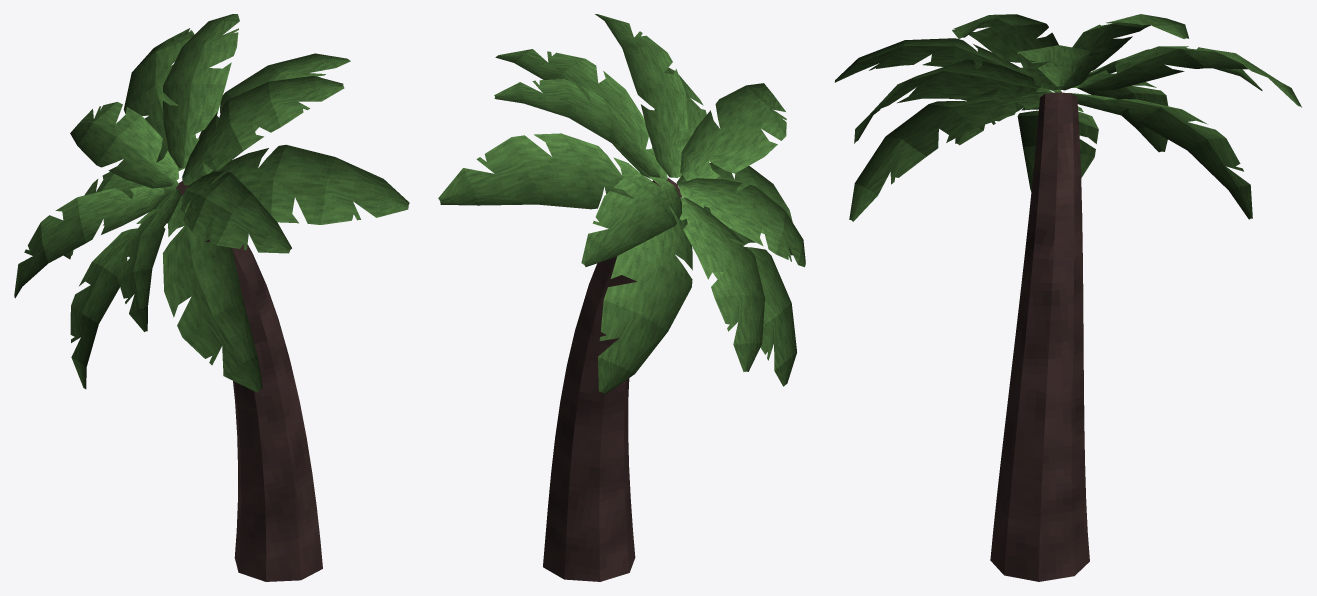
The model's file is palm_tree.gltf.
3 renders of one model, left to right at view 1: azimuth 30°, elevation 25°; view 2: azimuth 150°, elevation 25°; view 3: azimuth 270°, elevation 25°, orthographic. The views are drawn at different scales.
Visible parts, largest first — view 1: tree; view 2: tree; view 3: tree.
Part boxes in pixels (left/top/right/bottom): tree: left=14, top=14, right=409, bottom=581; tree: left=438, top=14, right=805, bottom=581; tree: left=834, top=14, right=1301, bottom=581.
Size of the model in its own units: 2.93 by 4.83 by 3.76.
Materials: 2 (2 with a texture image).
